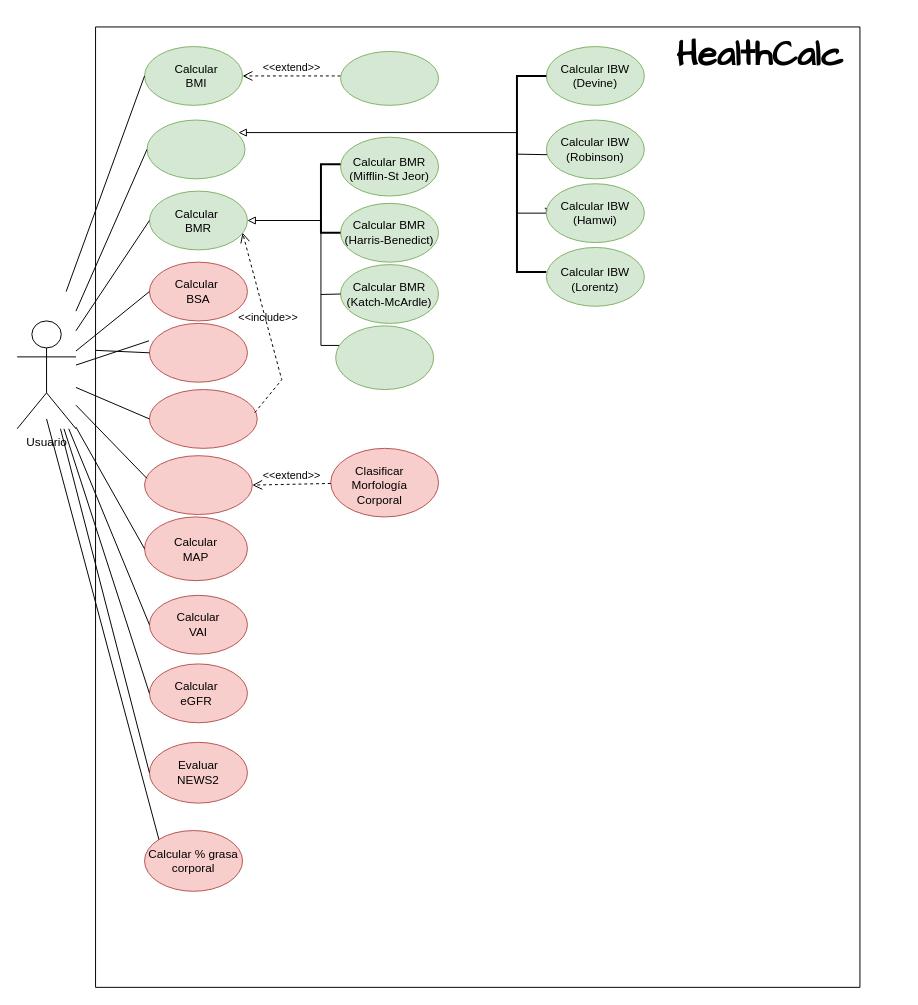
This 918x1005 diagram has some shape labels left out. Each missing label, with the box of its shape:
Calcular BMR (OMS): (335, 325, 434, 390)
Calcular IBW: (146, 119, 245, 179)
Calcular TDEE: (148, 389, 257, 448)
Calcular WC: (148, 322, 247, 382)
Calcular WHR: (144, 455, 252, 514)
Clasificar BMI: (340, 50, 439, 105)
